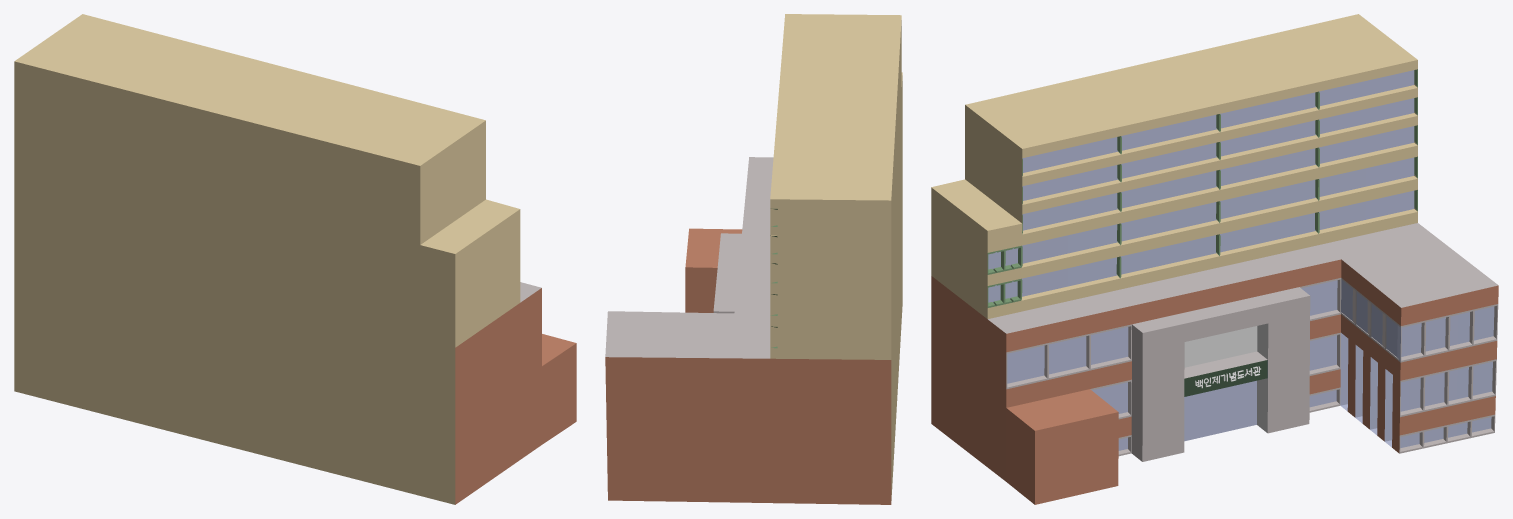
File: lib.fbx
3 renders of one model, left to right at view 1: azimuth 30°, elevation 25°; view 2: azimuth 150°, elevation 25°; view 3: azimuth 270°, elevation 25°, orthographic. The views are drawn at different scales.
Parts seen in each view (by area): view 1: 도서관; view 2: 도서관; view 3: 도서관.
Part boxes in pixels (x1,y1,x2,y2): 도서관: (14,14,576,504); 도서관: (605,14,902,504); 도서관: (931,14,1498,504).
Bounding box in the file's own units: 9368 × 7559 × 12497.
